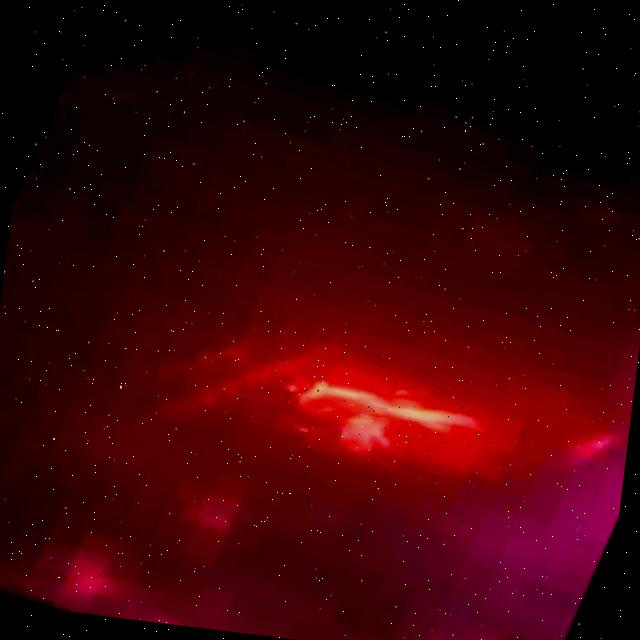fire: (205, 307, 527, 545)
